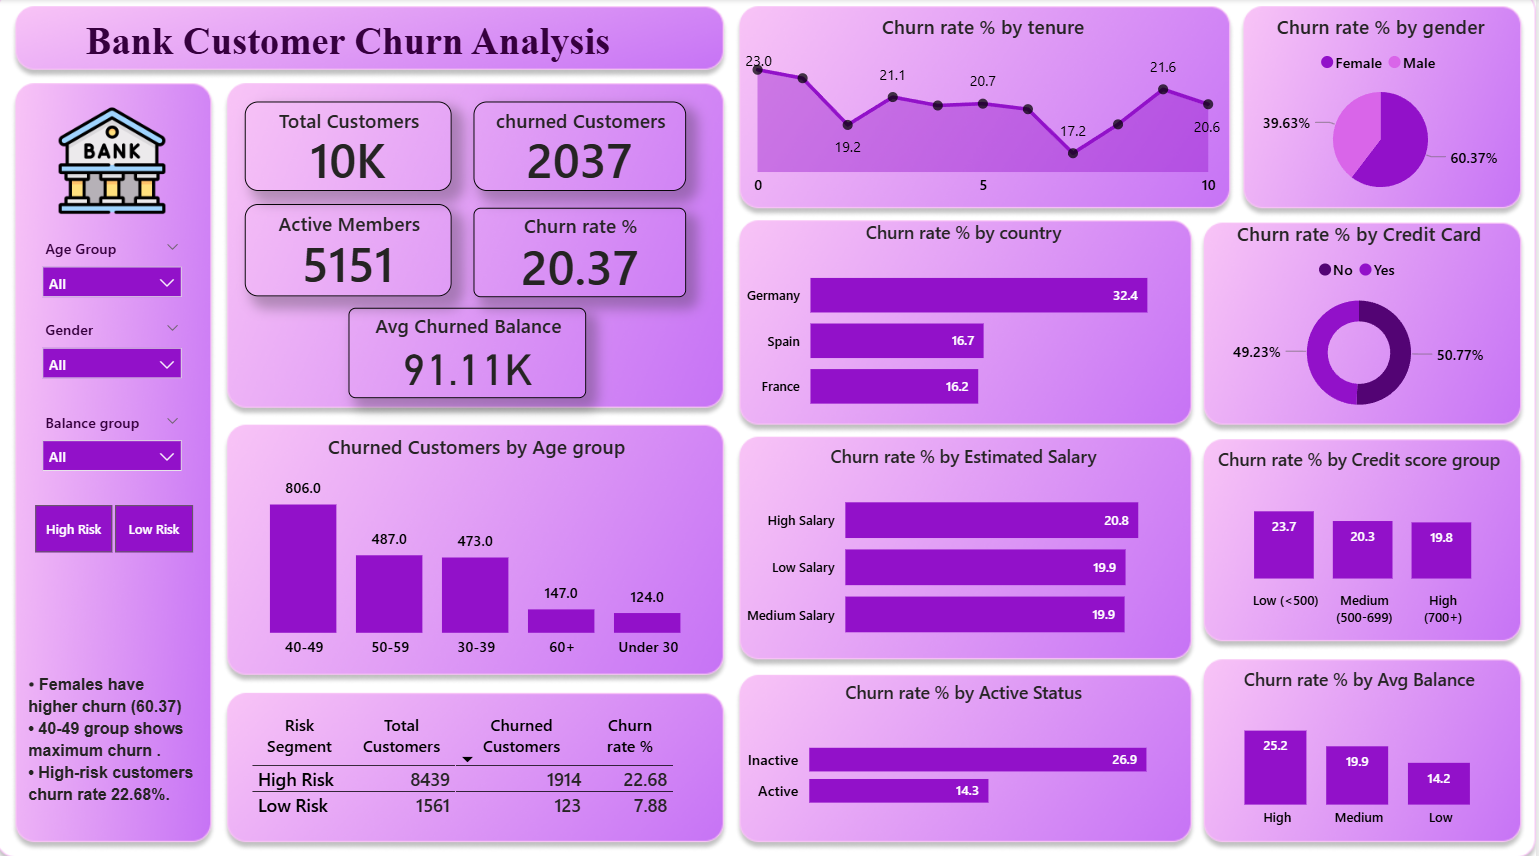

What the dashboard file says about the page in this screenshot:
{"tool":"powerbi","page":{"name":"Page 1","canvas":[1280,720],"ordinal":1},"visuals":[{"type":"textbox","box":[69.8,11.6,618.6,62.8],"z":0},{"type":"card","title":"Total Customers ","fields":{"Values":["Bank Customer Churn Prediction.Total Customers"]},"box":[207,84.9,172.1,74.4],"z":1000},{"type":"card","title":"churned Customers","fields":{"Values":["Bank Customer Churn Prediction.Churned Customers"]},"box":[396.5,84.9,176.7,74.4],"z":2000},{"type":"card","title":"Churn rate %","fields":{"Values":["Bank Customer Churn Prediction.Churn rate %"]},"box":[396.5,173.1,176.7,74.4],"z":3000},{"type":"card","title":"Active Members","fields":{"Values":["Bank Customer Churn Prediction.Active members"]},"box":[207,170.8,172.1,76.7],"z":4000},{"type":"card","title":"Avg Churned Balance ","fields":{"Values":["Bank Customer Churn Prediction.Avg churned balance"]},"box":[293,257,197.7,75.6],"z":5000},{"type":"lineChart","fields":{"Y":["Bank Customer Churn Prediction.Churn rate %"],"Category":["Bank Customer Churn Prediction.tenure"]},"box":[618.6,11.6,404.7,161.6],"z":5001},{"type":"columnChart","fields":{"Category":["Bank Customer Churn Prediction.Age group"],"Y":["Bank Customer Churn Prediction.Churned Customers"]},"box":[194.2,360.5,410.5,196.5],"z":5002},{"type":"pieChart","fields":{"Y":["Bank Customer Churn Prediction.Churn rate %"],"Category":["Bank Customer Churn Prediction.gender"]},"box":[1036,11.6,230.2,161.6],"z":5003},{"type":"donutChart","title":"Churn rate % by Credit Card ","fields":{"Y":["Bank Customer Churn Prediction.Churn rate %"],"Category":["Bank Customer Churn Prediction.Credit Card Status"]},"box":[1001.2,183.7,265.1,170.9],"z":5004},{"type":"barChart","fields":{"Category":["Bank Customer Churn Prediction.country"],"Y":["Bank Customer Churn Prediction.Churn rate %"]},"box":[618.6,183.7,372.1,174.4],"z":5005},{"type":"clusteredBarChart","fields":{"Category":["Bank Customer Churn Prediction.Active Status"],"Y":["Bank Customer Churn Prediction.Churn rate %"]},"box":[618.6,566.3,372.1,131.4],"z":5006},{"type":"columnChart","title":"Churn rate % by Avg Balance ","fields":{"Y":["Bank Customer Churn Prediction.Churn rate %"],"Category":["Bank Customer Churn Prediction.Avg Balance Group"]},"box":[1005.8,554.7,254.7,143],"z":5007},{"type":"clusteredBarChart","title":"Churn rate % by Estimated Salary ","fields":{"Y":["Bank Customer Churn Prediction.Churn rate %"],"Category":["Bank Customer Churn Prediction.Estimated Salary Group"]},"box":[618.6,369.8,372.1,179.1],"z":5008},{"type":"columnChart","fields":{"Category":["Bank Customer Churn Prediction.Credit score group"],"Y":["Bank Customer Churn Prediction.Churn rate %"]},"box":[1005.8,372.1,254.7,157],"z":5009},{"type":"tableEx","fields":{"Values":["Bank Customer Churn Prediction.Risk Segment","Bank Customer Churn Prediction.Total Customers","Bank Customer Churn Prediction.Churned Customers","Bank Customer Churn Prediction.Churn rate %"]},"box":[207,589.5,390.7,117.4],"z":5010},{"type":"slicer","fields":{"Values":["Bank Customer Churn Prediction.gender"]},"box":[27.9,261.6,136,70.9],"z":5012},{"type":"slicer","fields":{"Values":["Bank Customer Churn Prediction.Avg Balance Group"]},"box":[27.9,338.4,136,80.2],"z":5013},{"type":"slicer","fields":{"Values":["Bank Customer Churn Prediction.Age group"]},"box":[27.9,194.2,136,59.3],"z":5014},{"type":"slicer","fields":{"Values":["Bank Customer Churn Prediction.Risk Segment"]},"box":[5.8,414,181.4,53.5],"z":5015},{"type":"image","box":[38.4,84.9,116.3,98.8],"z":5016},{"type":"textbox","box":[22.1,554.7,148.8,143],"z":5017}]}

Visuals, with their boxes in screenshot pixels (x1, y1, x2, y2), scaled from the page's 1280x720 canvas onto the 1539x856 screenshot:
textbox: bbox(84, 14, 828, 88)
"Total Customers " card: bbox(249, 101, 456, 189)
"churned Customers" card: bbox(477, 101, 689, 189)
"Churn rate %" card: bbox(477, 206, 689, 294)
"Active Members" card: bbox(249, 203, 456, 294)
"Avg Churned Balance " card: bbox(352, 306, 590, 395)
lineChart - Bank Customer Churn Prediction.Churn rate % x Bank Customer Churn Prediction.tenure: bbox(744, 14, 1230, 206)
columnChart - Bank Customer Churn Prediction.Age group x Bank Customer Churn Prediction.Churned Customers: bbox(233, 429, 727, 662)
pieChart - Bank Customer Churn Prediction.Churn rate % x Bank Customer Churn Prediction.gender: bbox(1246, 14, 1522, 206)
"Churn rate % by Credit Card " donutChart: bbox(1204, 218, 1523, 422)
barChart - Bank Customer Churn Prediction.country x Bank Customer Churn Prediction.Churn rate %: bbox(744, 218, 1191, 426)
clusteredBarChart - Bank Customer Churn Prediction.Active Status x Bank Customer Churn Prediction.Churn rate %: bbox(744, 673, 1191, 829)
"Churn rate % by Avg Balance " columnChart: bbox(1209, 659, 1516, 829)
"Churn rate % by Estimated Salary " clusteredBarChart: bbox(744, 440, 1191, 653)
columnChart - Bank Customer Churn Prediction.Credit score group x Bank Customer Churn Prediction.Churn rate %: bbox(1209, 442, 1516, 629)
tableEx - Bank Customer Churn Prediction.Risk Segment x Bank Customer Churn Prediction.Total Customers: bbox(249, 701, 719, 840)
slicer - Bank Customer Churn Prediction.gender: bbox(34, 311, 197, 395)
slicer - Bank Customer Churn Prediction.Avg Balance Group: bbox(34, 402, 197, 498)
slicer - Bank Customer Churn Prediction.Age group: bbox(34, 231, 197, 301)
slicer - Bank Customer Churn Prediction.Risk Segment: bbox(7, 492, 225, 556)
image: bbox(46, 101, 186, 218)
textbox: bbox(27, 659, 205, 829)
